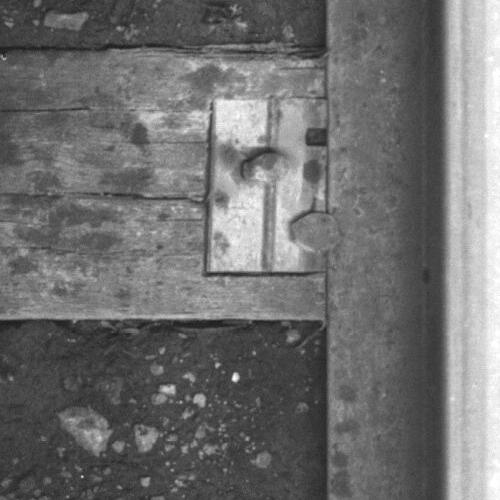do: (206, 96, 344, 272)
hole_do: (298, 119, 340, 158)
rail: (441, 1, 500, 500)
tie_wood: (1, 45, 326, 316)
wood_crack: (1, 188, 206, 208)
